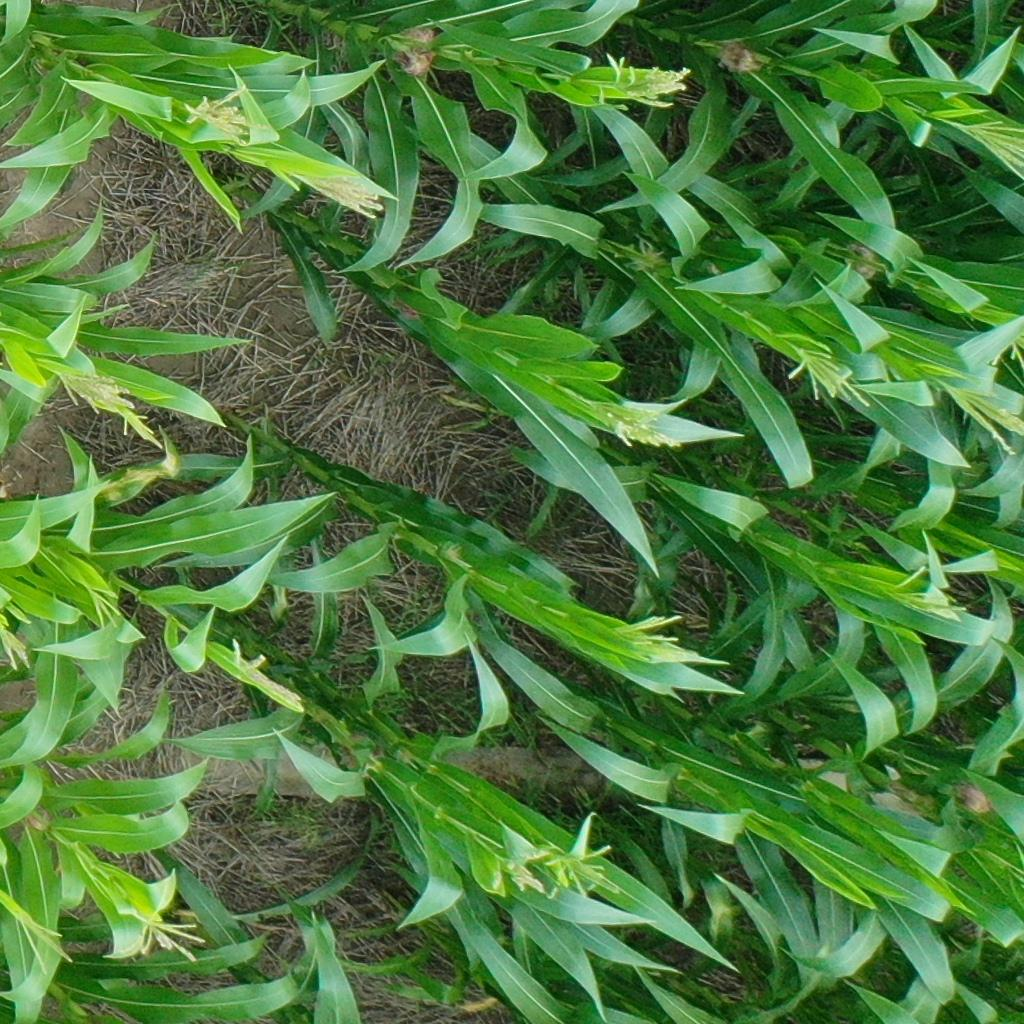Tassel: (55, 355, 168, 450), (936, 379, 1024, 457), (224, 632, 304, 713), (180, 80, 270, 151), (786, 343, 876, 407), (293, 159, 391, 217), (883, 559, 969, 623), (546, 829, 623, 898), (612, 609, 703, 665), (128, 906, 209, 964), (957, 115, 1024, 181), (15, 910, 78, 978), (600, 400, 680, 453), (625, 58, 693, 113), (485, 845, 554, 894), (1, 601, 36, 675), (86, 585, 131, 634), (987, 321, 1024, 369)
